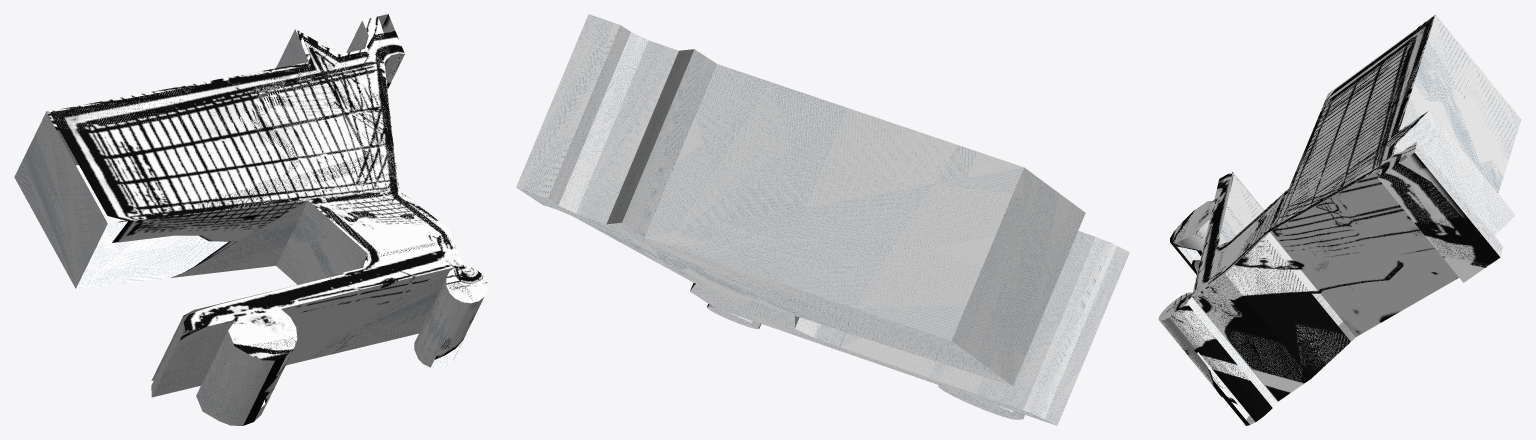
The model's file is shopping cart bisected..fbx.
3 views of the same model, side by side, from view 1: azimuth 30°, elevation 25°; view 2: azimuth 150°, elevation 25°; view 3: azimuth 270°, elevation 25° (orthographic). The views are drawn at different scales.
Parts seen in each view (by area): view 1: Model; view 2: Model; view 3: Model.
Boxes of the visible parts, x1=… form: Model: x1=14, y1=14, x2=487, y2=425; Model: x1=516, y1=14, x2=1129, y2=425; Model: x1=1158, y1=15, x2=1521, y2=425.
Bounding box in the file's own units: 156 × 130 × 142.
